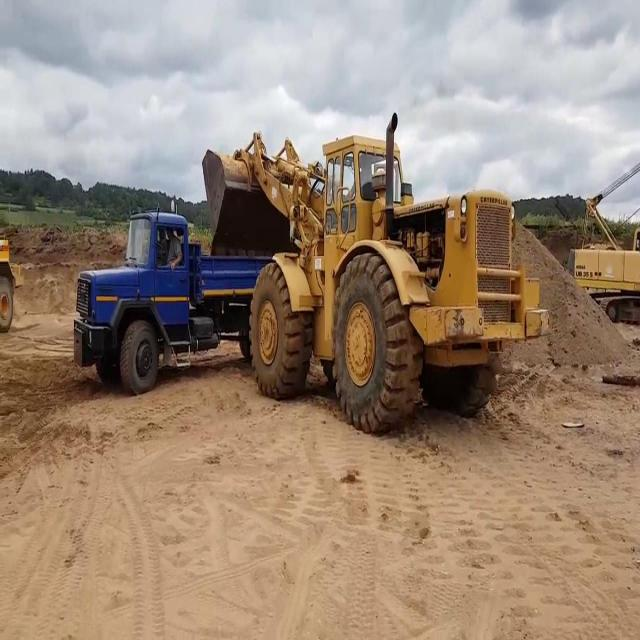Dump Truck: (72, 198, 241, 404)
Loader: (199, 109, 551, 442)
